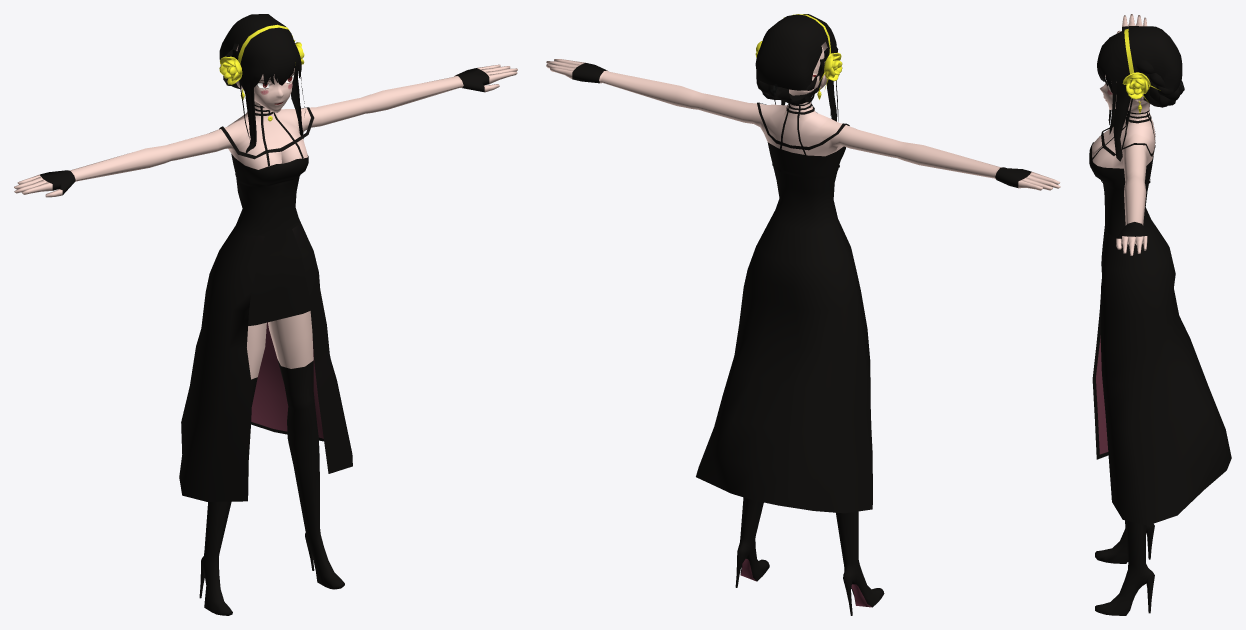
Rendered from chimo_body24.fbx.
3 renders of one model, left to right at view 1: azimuth 30°, elevation 25°; view 2: azimuth 150°, elevation 25°; view 3: azimuth 270°, elevation 25°, orthographic. The views are drawn at different scales.
Parts seen in each view (by area): view 1: Cube; view 2: Cube; view 3: Cube.
Boxes of the visible parts, left/top/right/bottom form: Cube: left=14, top=14, right=517, bottom=615; Cube: left=546, top=14, right=1060, bottom=615; Cube: left=1089, top=14, right=1231, bottom=615.
Bounding box in the file's own units: 74.61 × 80.64 × 18.68.
1 material, 1 textured.
